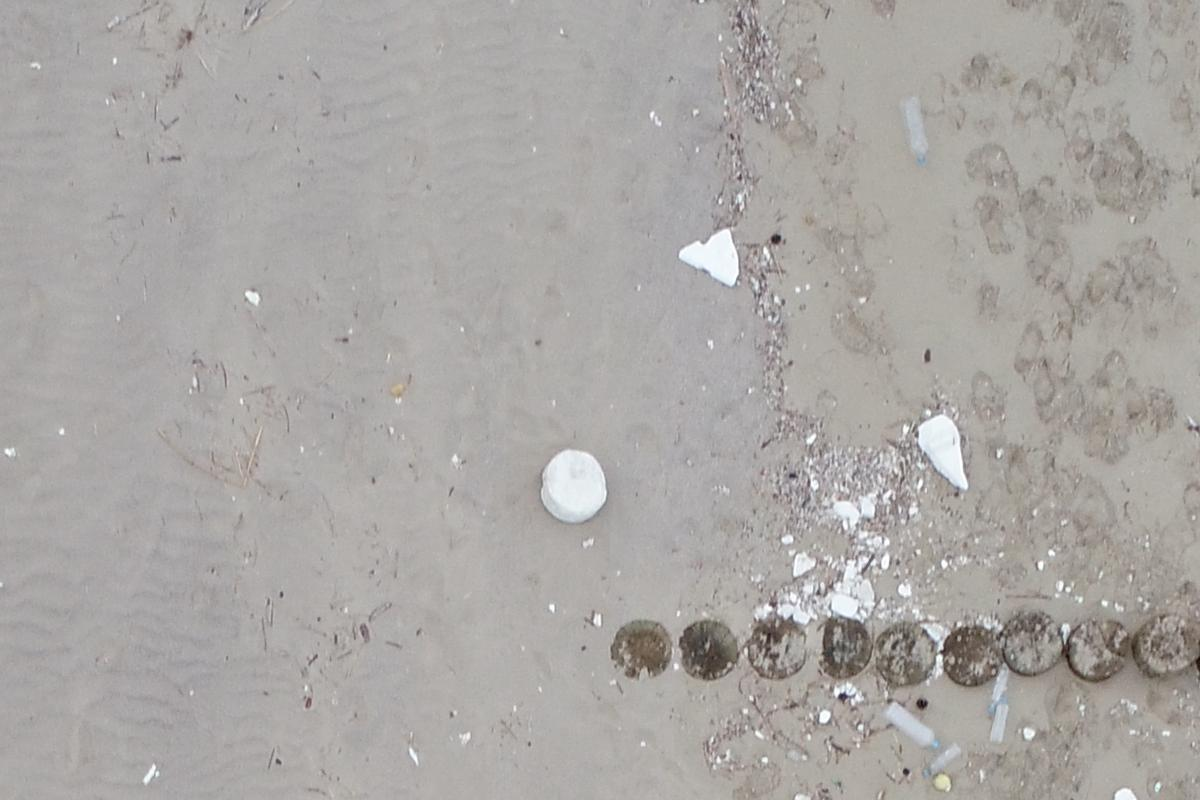(11)PET_Bottle: (875, 701, 941, 752), (904, 101, 929, 164)
(11)Styrofoam_Piece: (679, 223, 743, 293), (914, 413, 973, 485)
(21)Styrofoam_Piece: (535, 447, 605, 523), (1114, 781, 1140, 800)
\: (987, 666, 1011, 716), (988, 693, 1007, 746)
